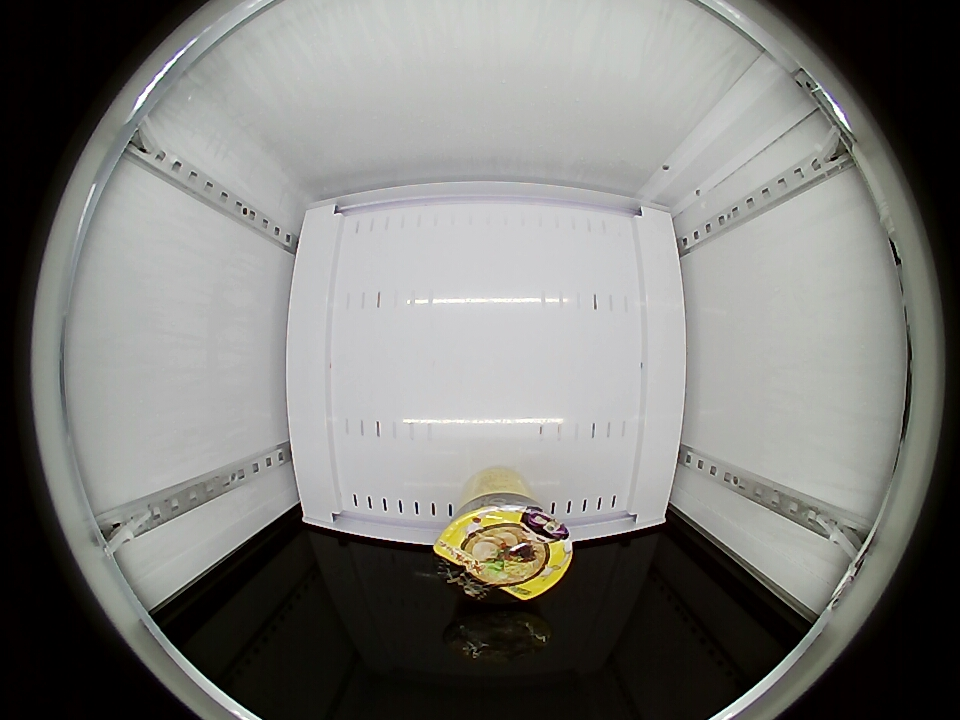tangdaren2: (433, 494, 573, 602)
